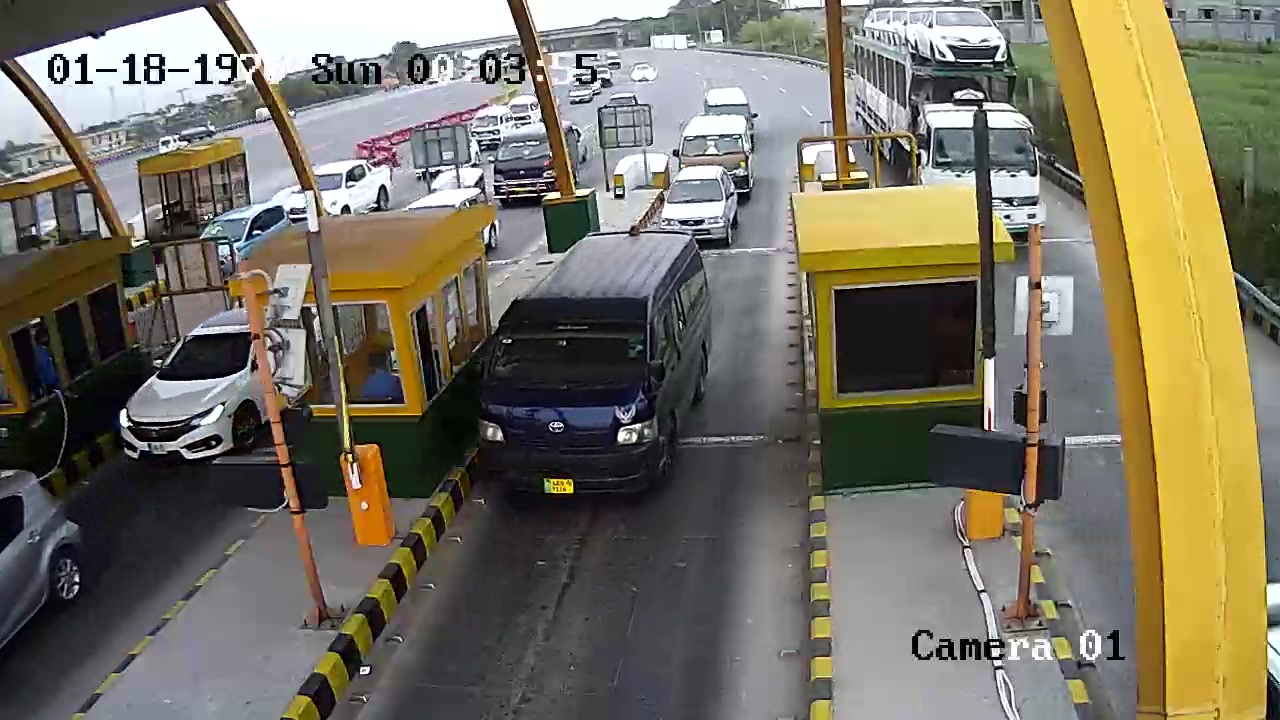F2: (467, 231, 711, 526)
